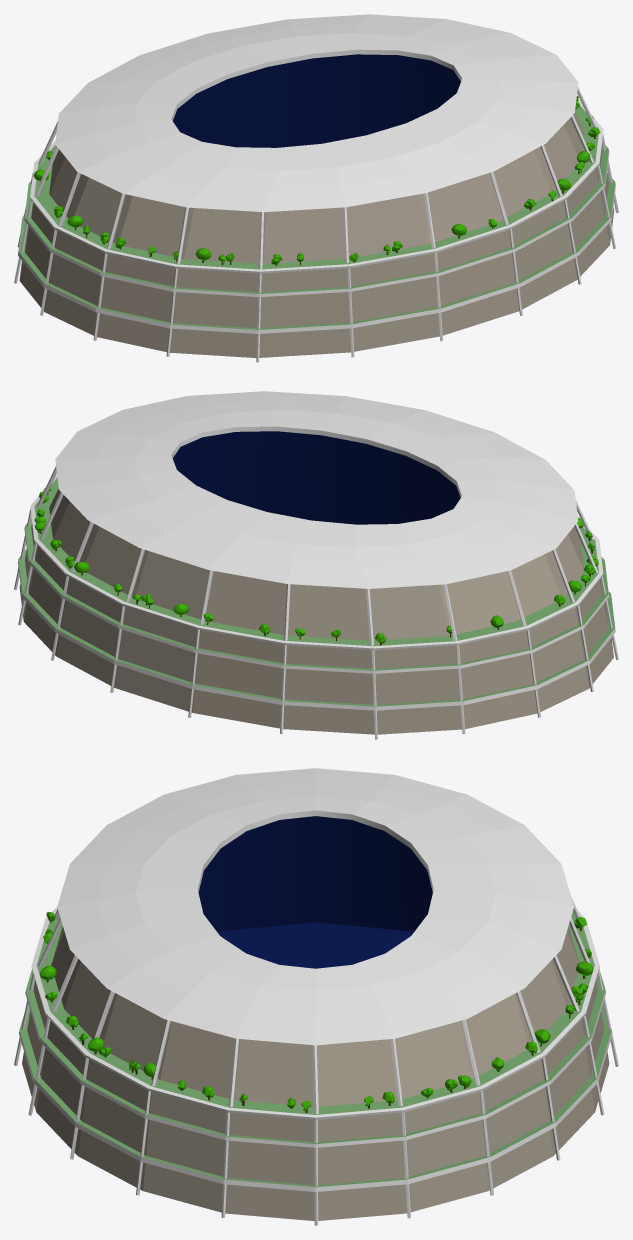
The model's file is OlympicStadium(TrackSoccer).fbx.
3 renders of one model, top to bottom at view 1: azimuth 30°, elevation 25°; view 2: azimuth 150°, elevation 25°; view 3: azimuth 270°, elevation 25°, orthographic. The views are drawn at different scales.
Visible parts, largest first — view 1: StadiumBody; view 2: StadiumBody; view 3: StadiumBody.
Part boxes in pixels (x1,y1,x2,y2): StadiumBody: (18, 14, 615, 357); StadiumBody: (18, 391, 615, 734); StadiumBody: (19, 768, 612, 1220).
Size of the model in its own units: 17.99 by 4.64 by 14.37.
